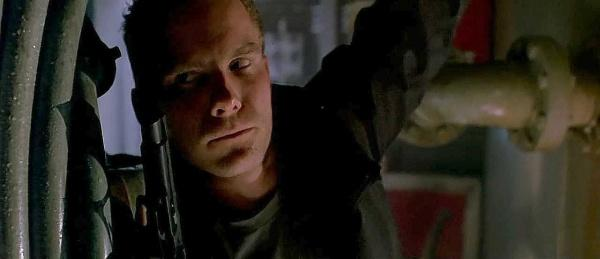Gun: (142, 108, 186, 259)
